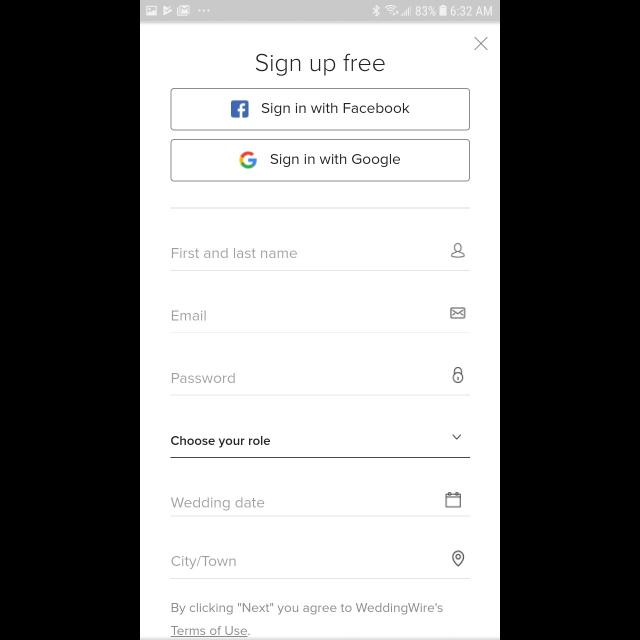icon: (450, 242, 466, 258), (446, 492, 462, 508), (474, 37, 488, 51), (450, 308, 466, 320), (452, 550, 464, 566), (452, 367, 463, 383), (452, 434, 462, 440)
input: (170, 242, 470, 272), (170, 550, 470, 580), (170, 368, 470, 397), (170, 307, 470, 333), (170, 434, 470, 458), (170, 492, 470, 516)
text: (171, 602, 443, 638), (256, 54, 384, 76), (172, 497, 264, 511), (172, 249, 298, 259), (172, 436, 270, 448), (172, 556, 236, 568), (172, 372, 235, 383), (172, 310, 206, 322)
textbutton: (170, 88, 470, 132), (170, 138, 470, 182)
uppertaskbar: (140, 1, 500, 22)
